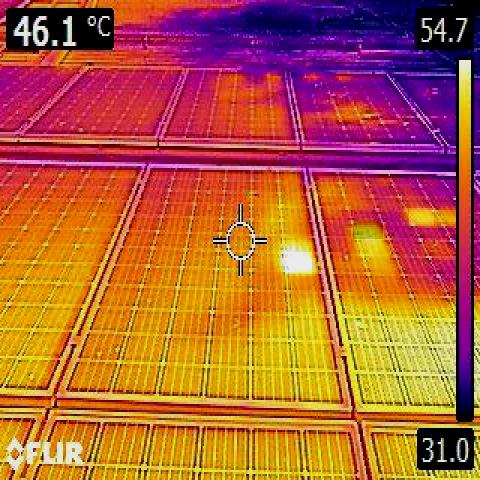fault: (286, 252, 312, 273), (353, 222, 383, 240), (409, 208, 434, 226)
